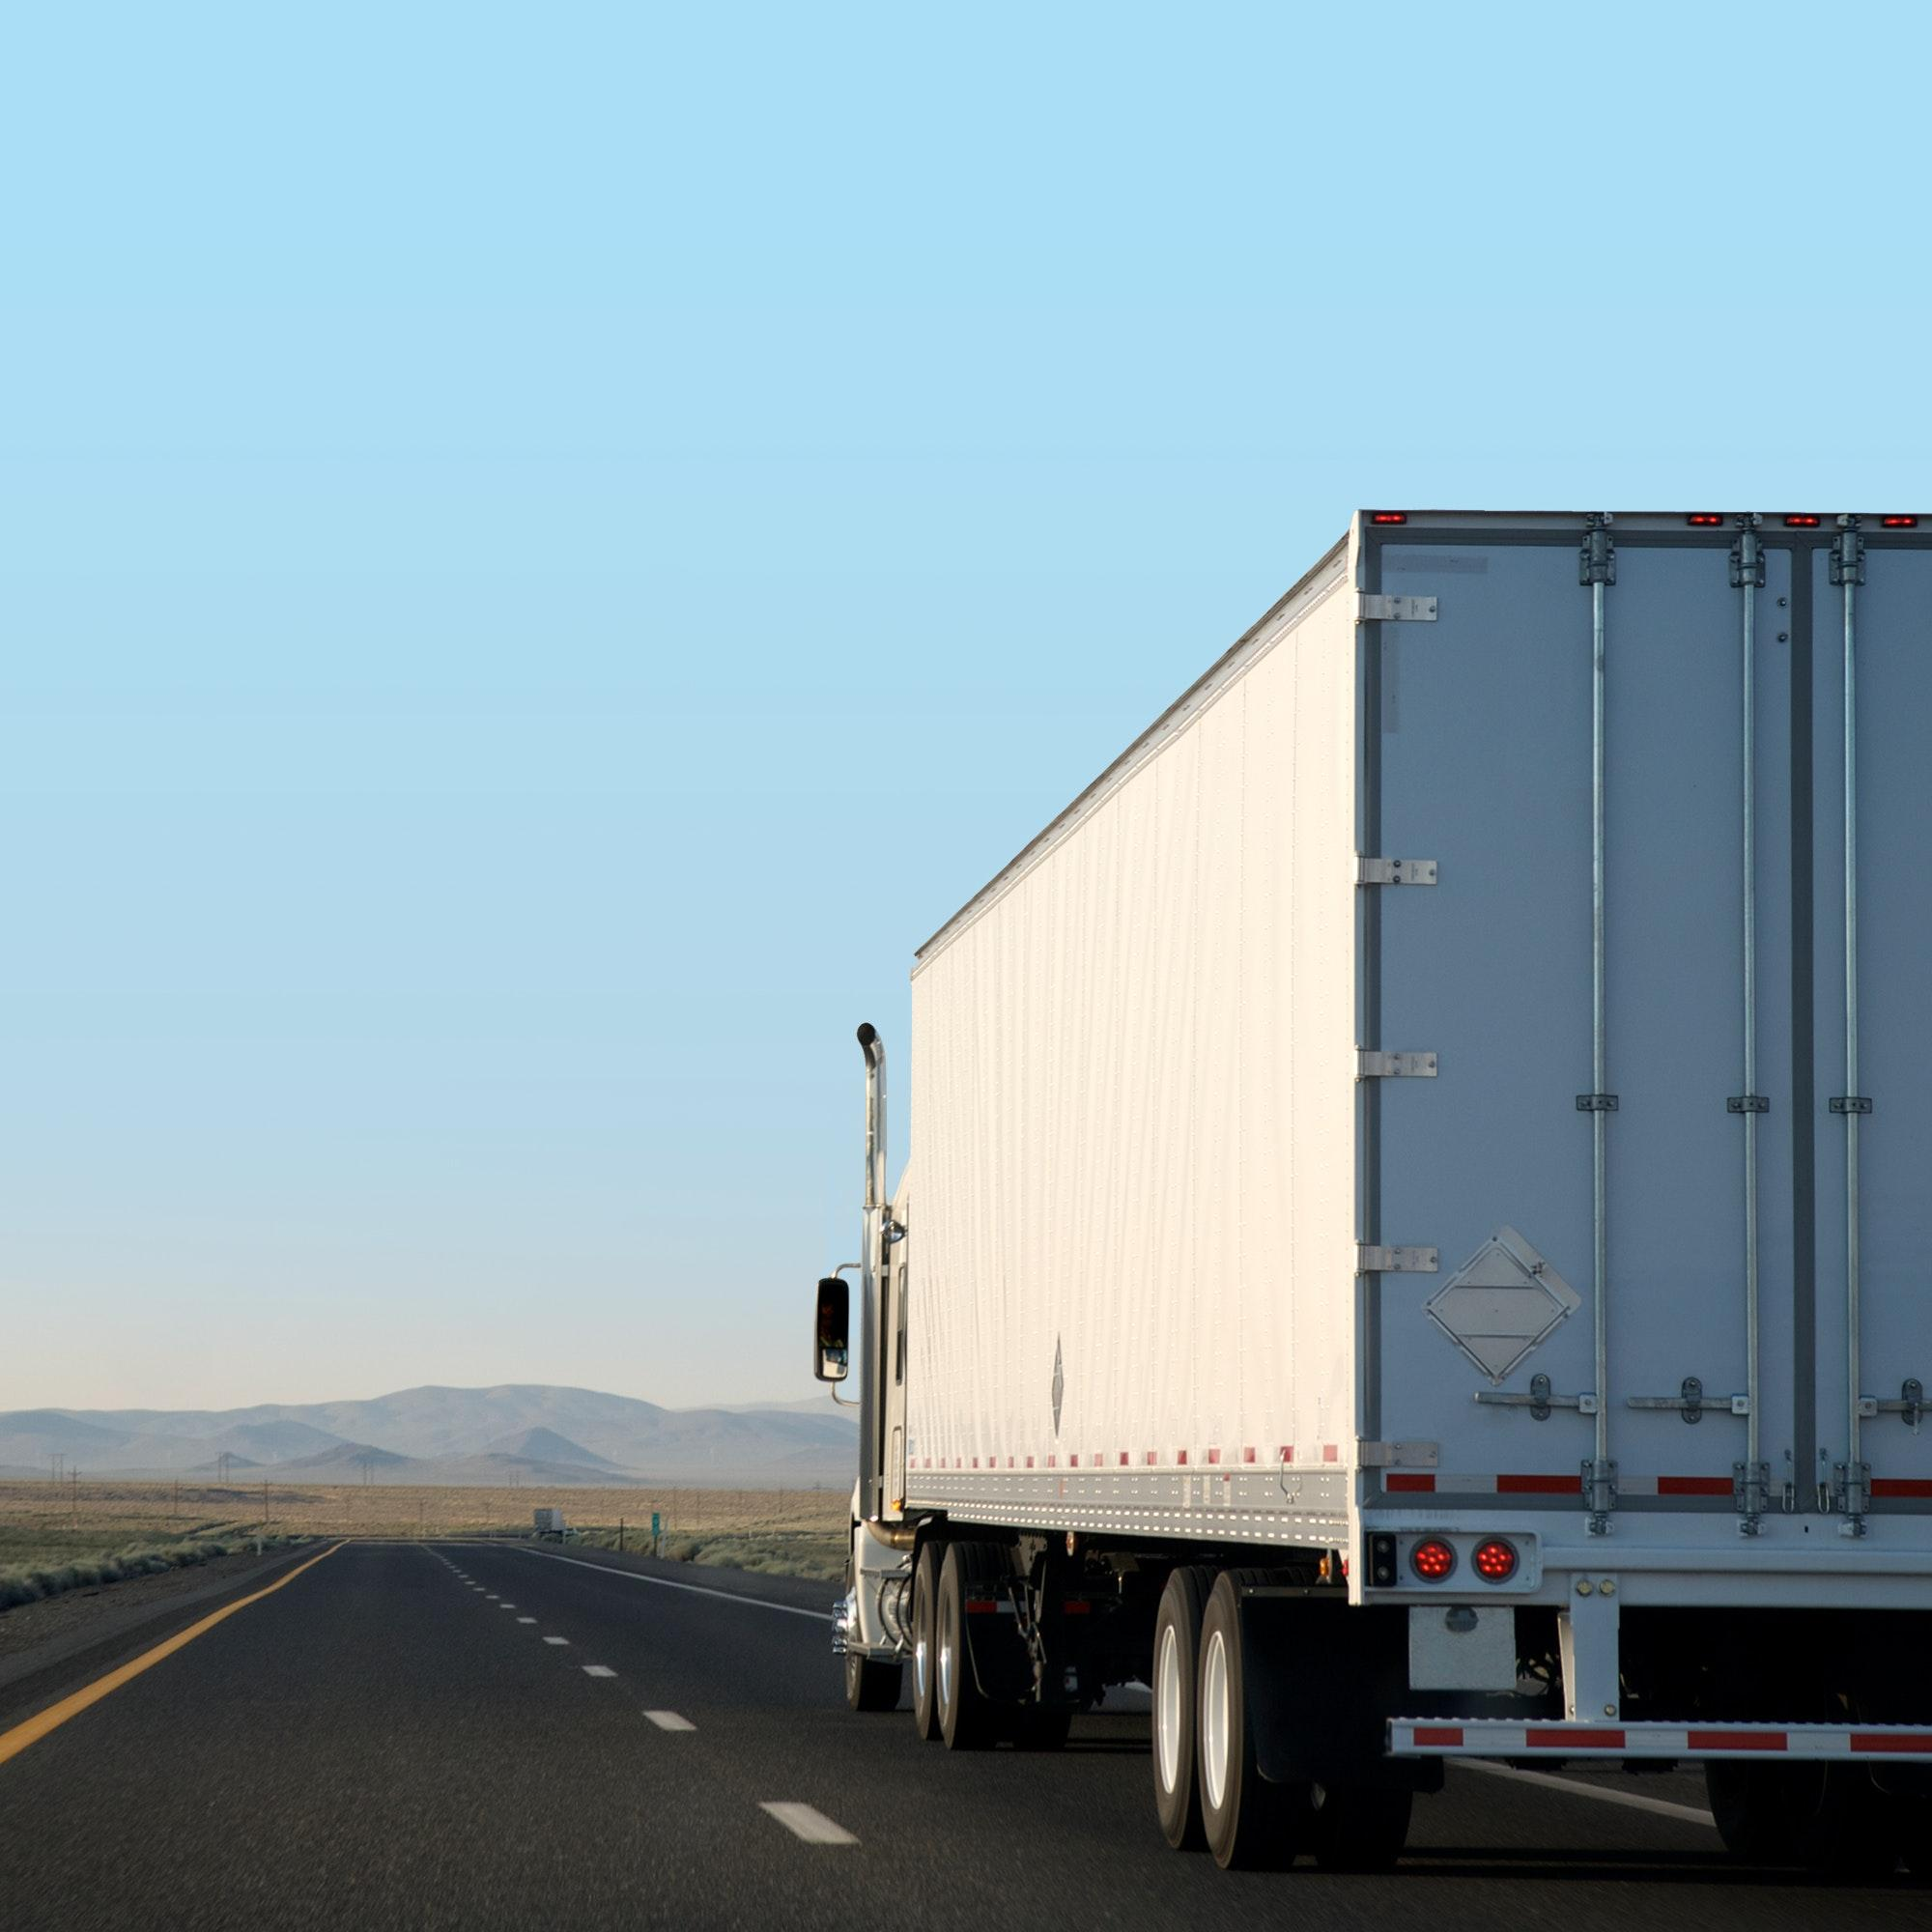truck: (814, 508, 1932, 1874)
